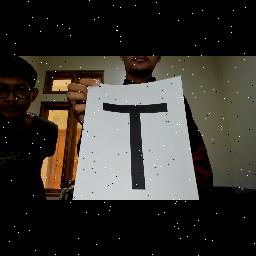t: (100, 96, 178, 192)
